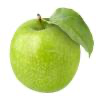Apple leaf: (48, 4, 97, 58)
